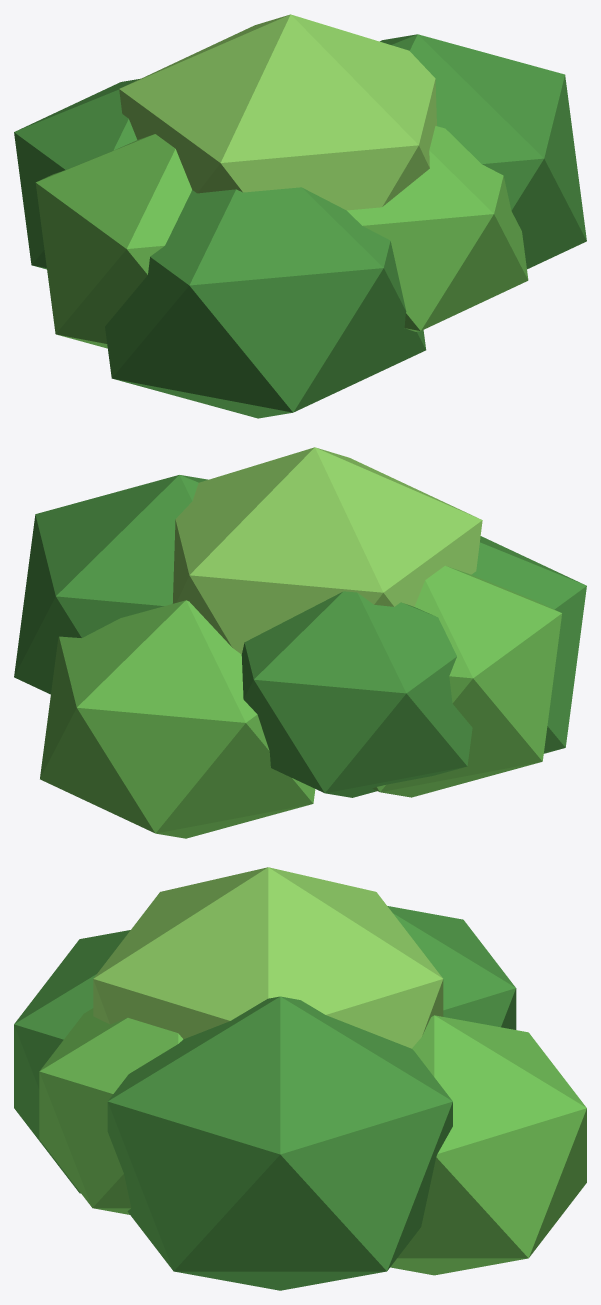
The model's file is bush-round-a.glb.
3 renders of one model, top to bottom at view 1: azimuth 30°, elevation 25°; view 2: azimuth 150°, elevation 25°; view 3: azimuth 270°, elevation 25°, orthographic. The views are drawn at different scales.
Parts seen in each view (by area): view 1: bush-round-a; view 2: bush-round-a; view 3: bush-round-a.
Boxes of the visible parts, box(x1,y1,x2,y2) form: bush-round-a: box(14, 14, 586, 418); bush-round-a: box(14, 447, 586, 838); bush-round-a: box(14, 867, 586, 1290).
Bounding box in the file's own units: 1.54 × 1.03 × 1.39.
